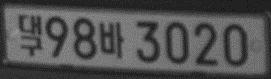0: (222, 22, 248, 67), (165, 21, 189, 65)
2: (194, 21, 218, 66)
3: (135, 20, 160, 63)
8: (72, 17, 97, 60)
9: (44, 15, 68, 57)
대구_V: (18, 13, 43, 55)
바: (99, 21, 124, 57)
